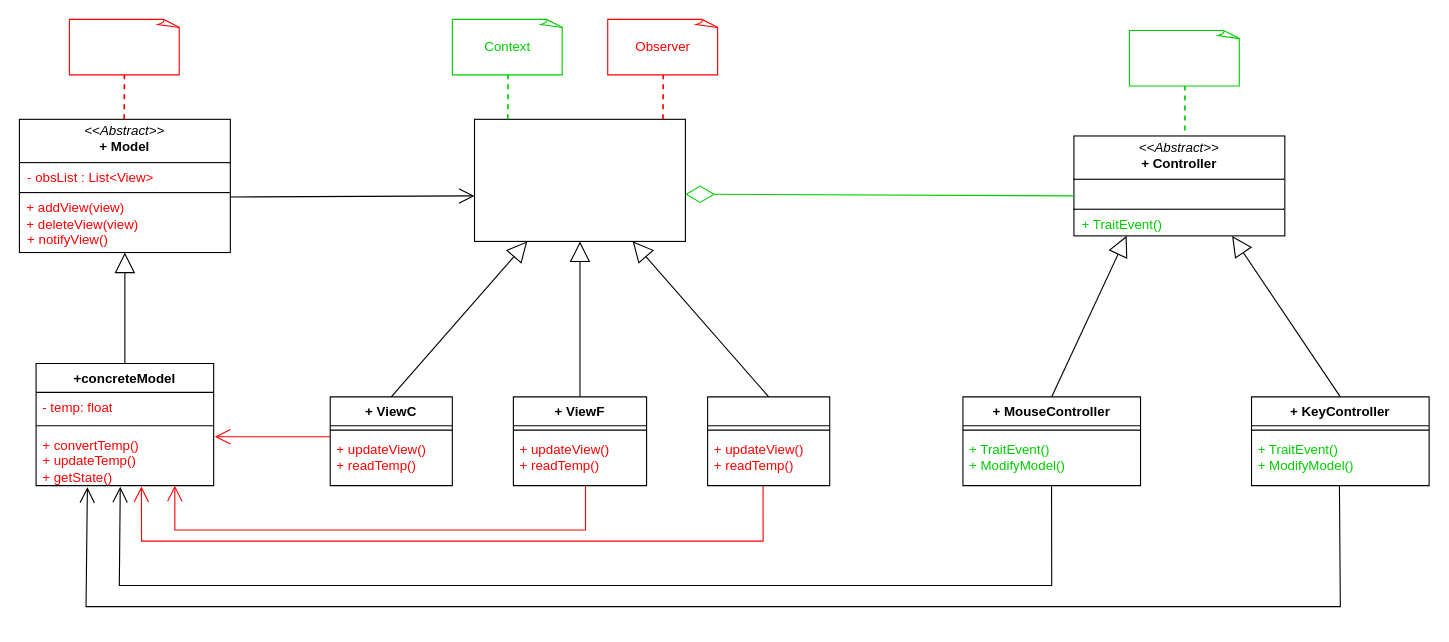
The diagram is 1449 pixels wide and 642 high, and some of its shapes have lost their labels. Here are the shapes that lost their labels. From the top down, the box of each, then its label:
(68, 18, 180, 75): Subject
(1128, 29, 1240, 86): Strategies
(473, 118, 685, 241): <<Abstract>> + View - con : Controller + HandleEvent() + updateView()
(707, 396, 830, 486): + ViewSlider
